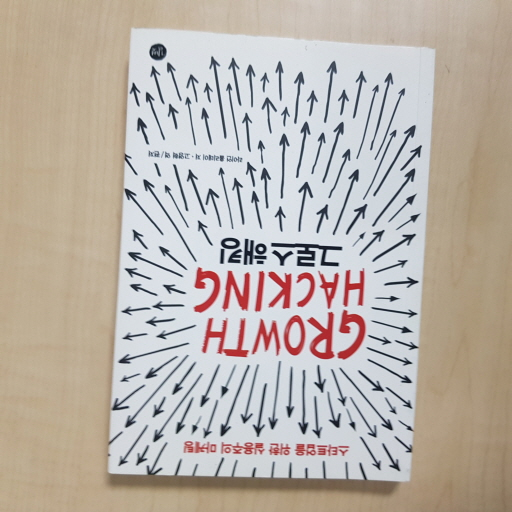Paper_0: (108, 20, 441, 494)
